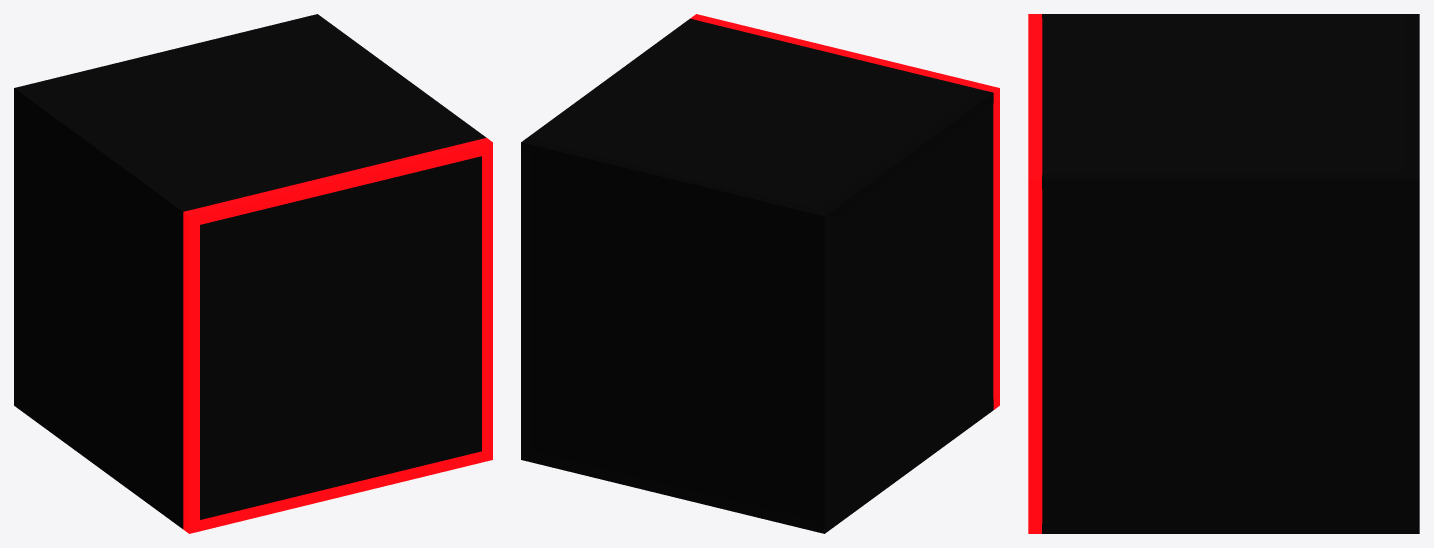
Rendered from sol_isikli_kup.fbx.
3 views of the same model, side by side, from view 1: azimuth 30°, elevation 25°; view 2: azimuth 150°, elevation 25°; view 3: azimuth 270°, elevation 25° (orthographic). The views are drawn at different scales.
Parts seen in each view (by area): view 1: Cube.002; view 2: Cube.002; view 3: Cube.002.
Part boxes in pixels (x1=…): Cube.002: x1=14, y1=14, x2=492, y2=533; Cube.002: x1=521, y1=14, x2=999, y2=533; Cube.002: x1=1028, y1=14, x2=1419, y2=533.
Size of the model in its own units: 205 by 205 by 205.
